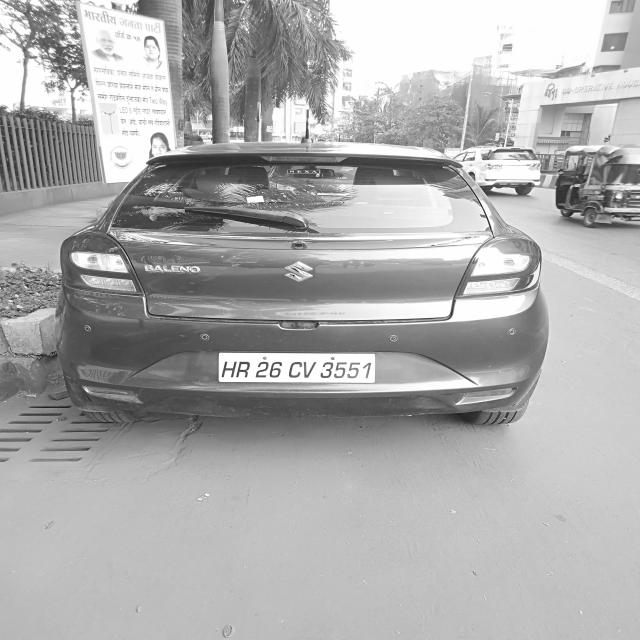car: (55, 137, 554, 434)
license-plate: (214, 348, 378, 394)
